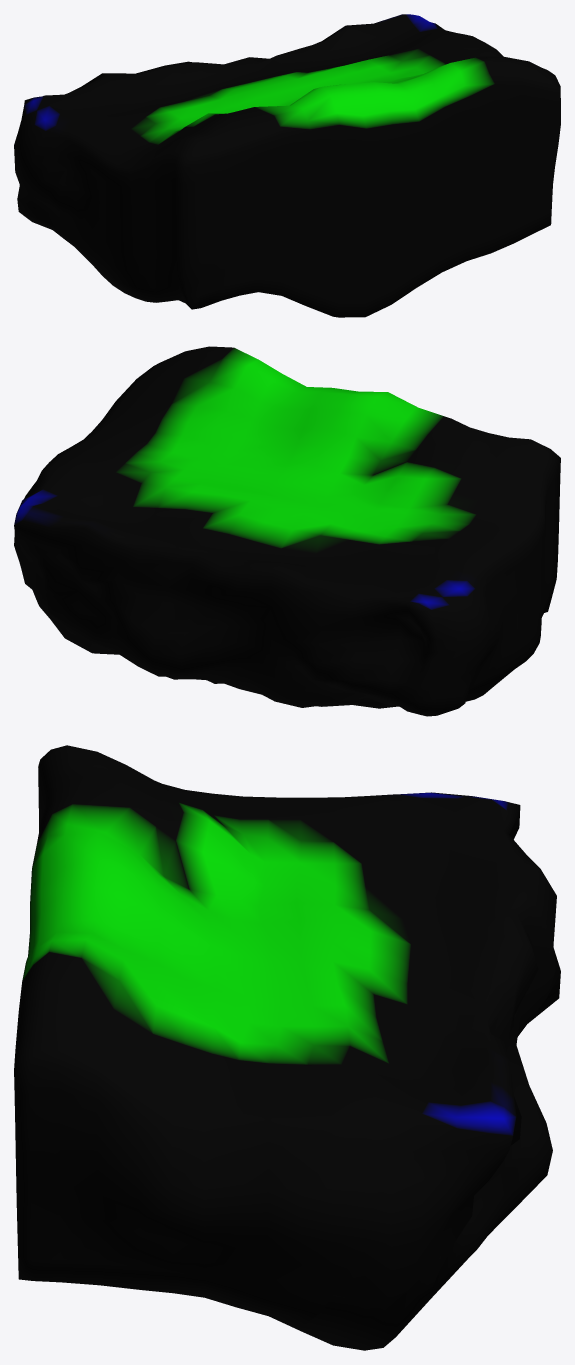
The model's file is PlataformaTest.fbx.
3 views of the same model, one above another, from view 1: azimuth 30°, elevation 25°; view 2: azimuth 150°, elevation 25°; view 3: azimuth 270°, elevation 25° (orthographic). The views are drawn at different scales.
Parts seen in each view (by area): view 1: Floor_3; view 2: Floor_3; view 3: Floor_3.
Boxes of the visible parts, x1=… form: Floor_3: x1=14, y1=14, x2=560, y2=317; Floor_3: x1=14, y1=346, x2=560, y2=716; Floor_3: x1=14, y1=745, x2=560, y2=1350.
Size of the model in its own units: 34.14 by 16.6 by 21.38.
